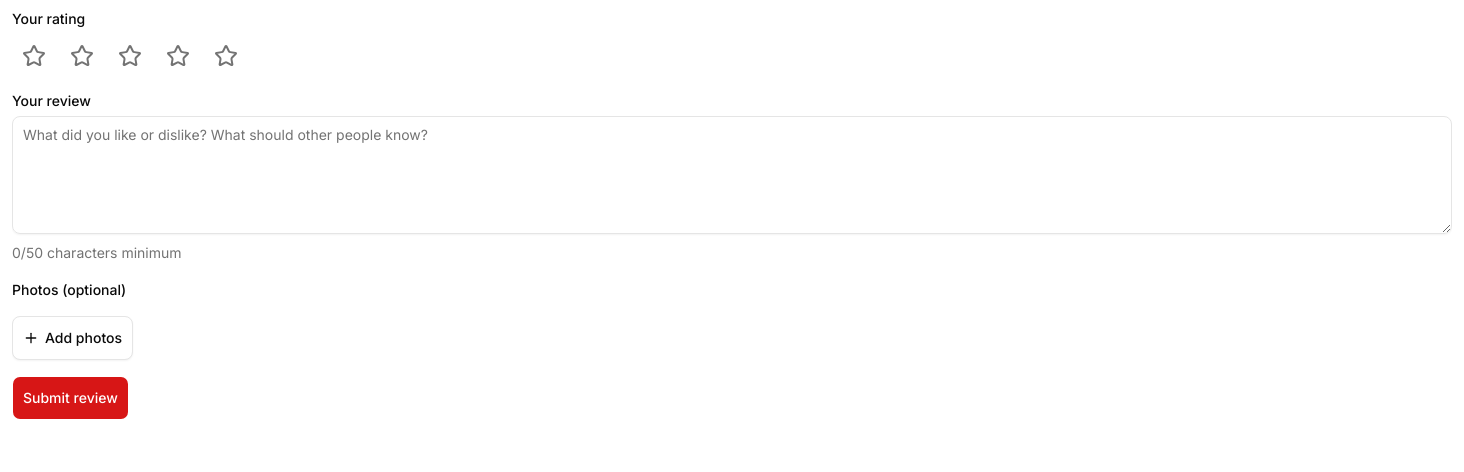
Test case: ReviewComposer › posts a new review with rating shown/required first, then text, and shows a generic success message
Click the radio button named "Rate 5 stars" at x=226, y=56, box [204, 34, 248, 78]
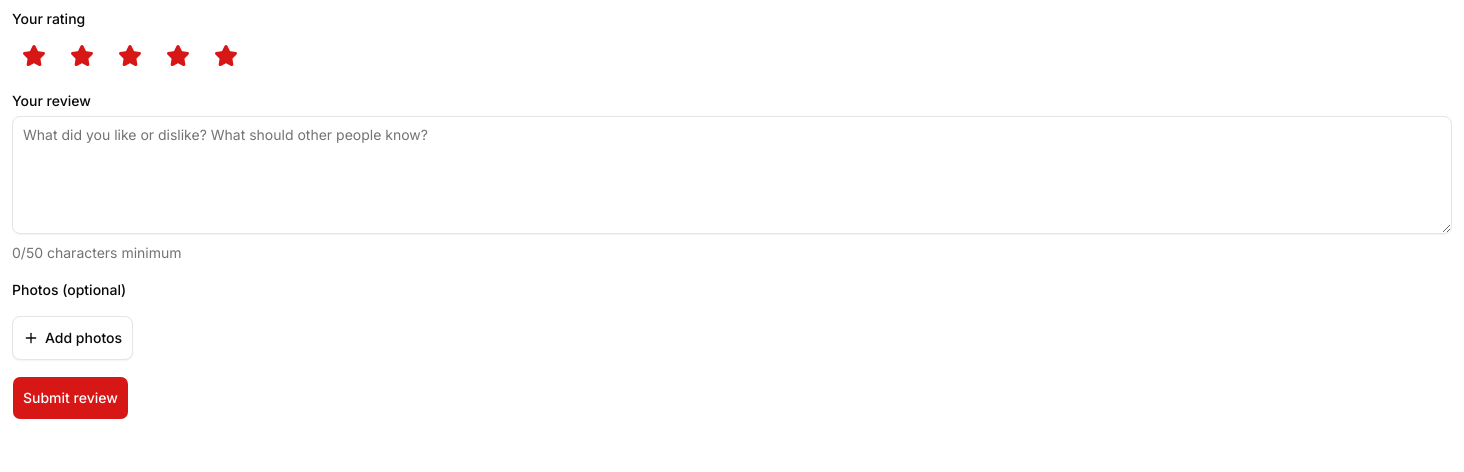
Type "This place has great food, friendly staff, and a cozy atmosphere that keeps me coming back." into the text box labelled "Your review" at x=732, y=175, box [12, 116, 1452, 234]
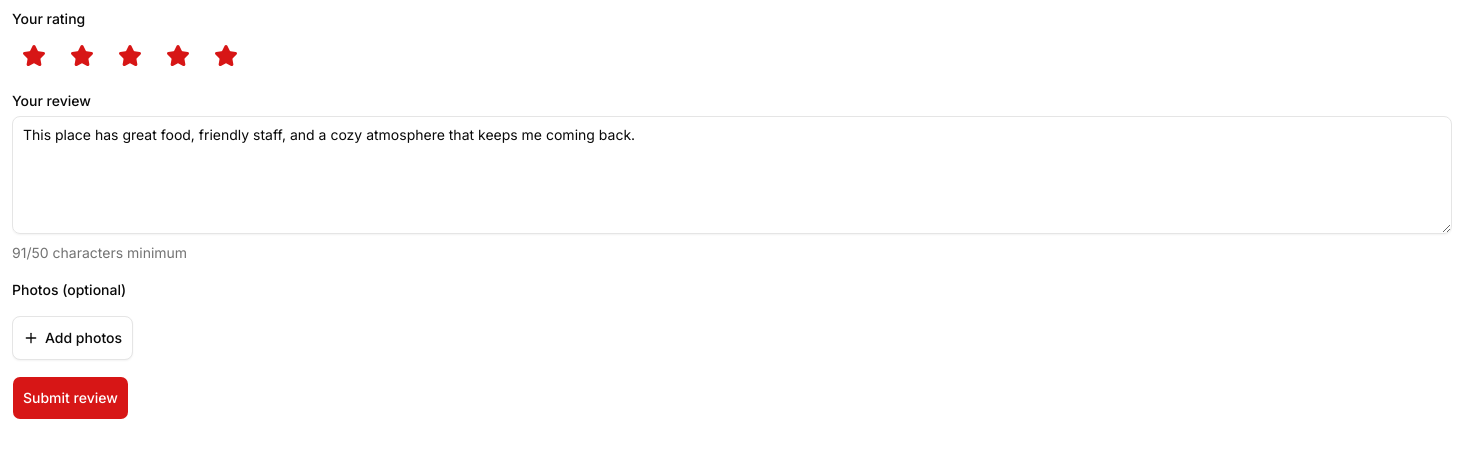
Click the button "Submit review" at x=70, y=398, box [12, 376, 129, 420]
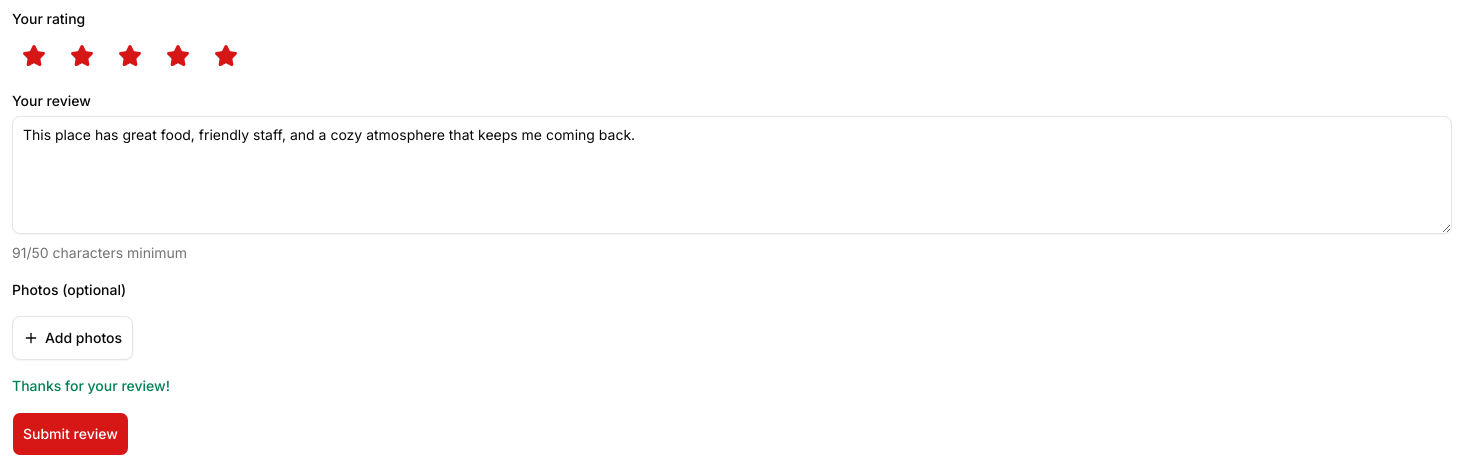
Expected: the text "Thanks for your review!" is shown, [12, 377, 170, 394]
